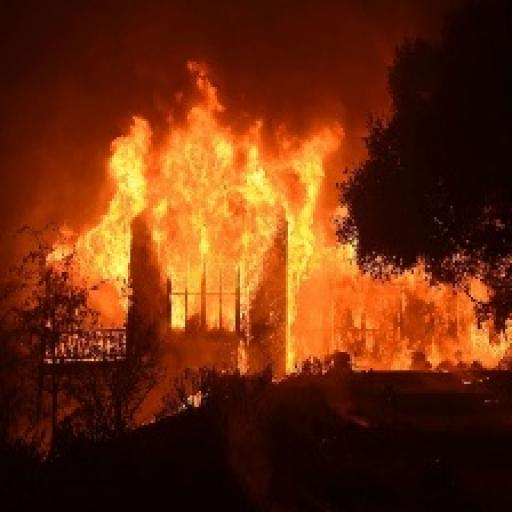fire and smoke: (76, 62, 505, 372)
